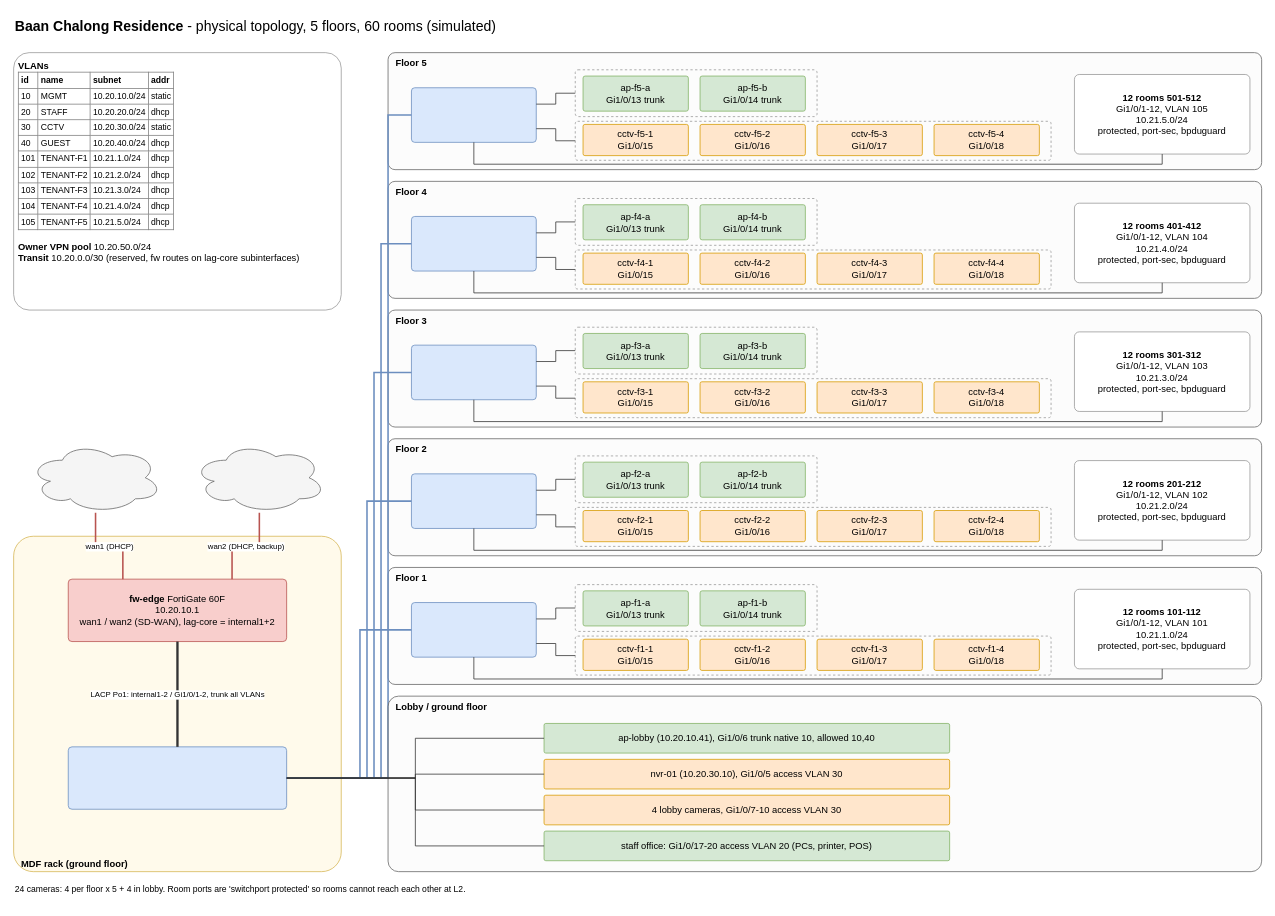
Some shapes in this 1275 by 916 pixel diagram are drawn without their labels. Here are the shapes that lost their labels. From the top down, the centre of each, then its label:
At [473,114]: "sw-f5 10.20.10.15 uplink Gi1/0/24 -> core Gi1/0/15".
At [473,243]: "sw-f4 10.20.10.14 uplink Gi1/0/24 -> core Gi1/0/14".
At [473,372]: "sw-f3 10.20.10.13 uplink Gi1/0/24 -> core Gi1/0/13".
At [95,477]: "ISP-A FTTx 1000/500".
At [259,477]: "ISP-B FTTx 500/500".
At [473,500]: "sw-f2 10.20.10.12 uplink Gi1/0/24 -> core Gi1/0/12".
At [473,629]: "sw-f1 10.20.10.11 uplink Gi1/0/24 -> core Gi1/0/11".
At [177,777]: "sw-core Catalyst 24p, STP root 10.20.10.2".
